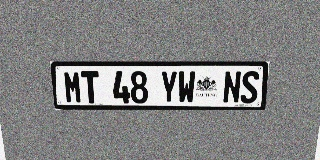4: (112, 71, 130, 103)
8: (130, 71, 148, 103)
M: (63, 71, 83, 103)
N: (222, 71, 242, 103)
S: (240, 71, 260, 103)
T: (81, 71, 100, 103)
W: (178, 71, 196, 103)
Y: (160, 71, 178, 103)
